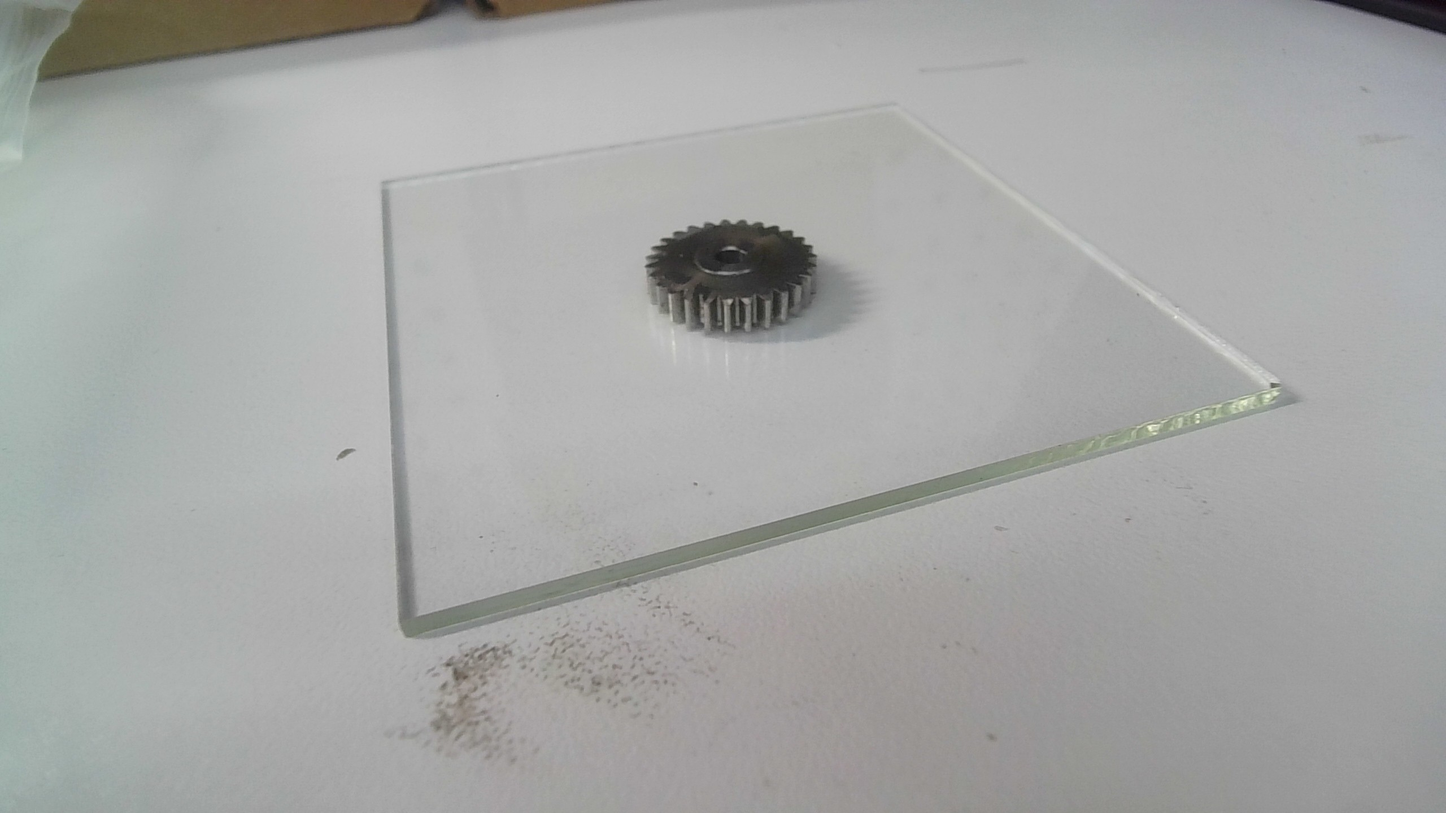gear: (642, 216, 824, 336)
